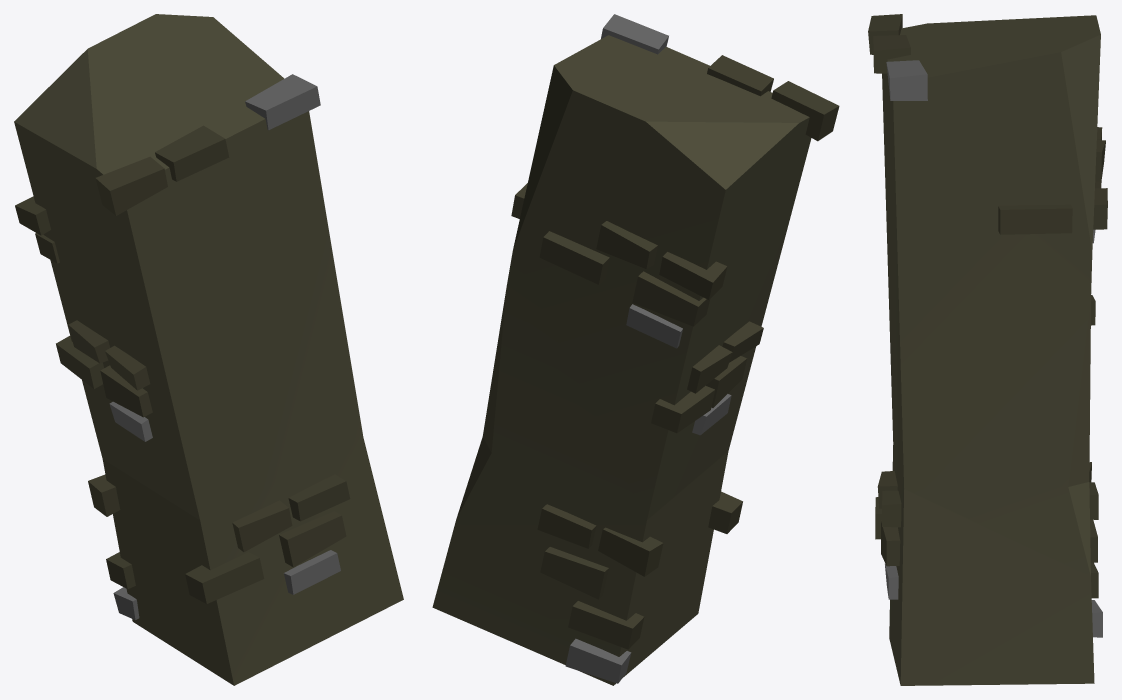
File: ea_arch_wall03_rubble_01e__pre_8_lev1.glb
3 views of the same model, side by side, from view 1: azimuth 30°, elevation 25°; view 2: azimuth 150°, elevation 25°; view 3: azimuth 270°, elevation 25° (orthographic). The views are drawn at different scales.
Visible parts, largest first — view 1: ea_arch_wall03_rubble_01e__pre_8_lev1; view 2: ea_arch_wall03_rubble_01e__pre_8_lev1; view 3: ea_arch_wall03_rubble_01e__pre_8_lev1.
Part boxes in pixels (bbox=[...]): ea_arch_wall03_rubble_01e__pre_8_lev1: bbox=[14, 14, 403, 685]; ea_arch_wall03_rubble_01e__pre_8_lev1: bbox=[432, 14, 839, 685]; ea_arch_wall03_rubble_01e__pre_8_lev1: bbox=[868, 14, 1107, 685].
Size of the model in its own units: 1.47 by 2.71 by 0.9518.
1 material, 1 textured.
